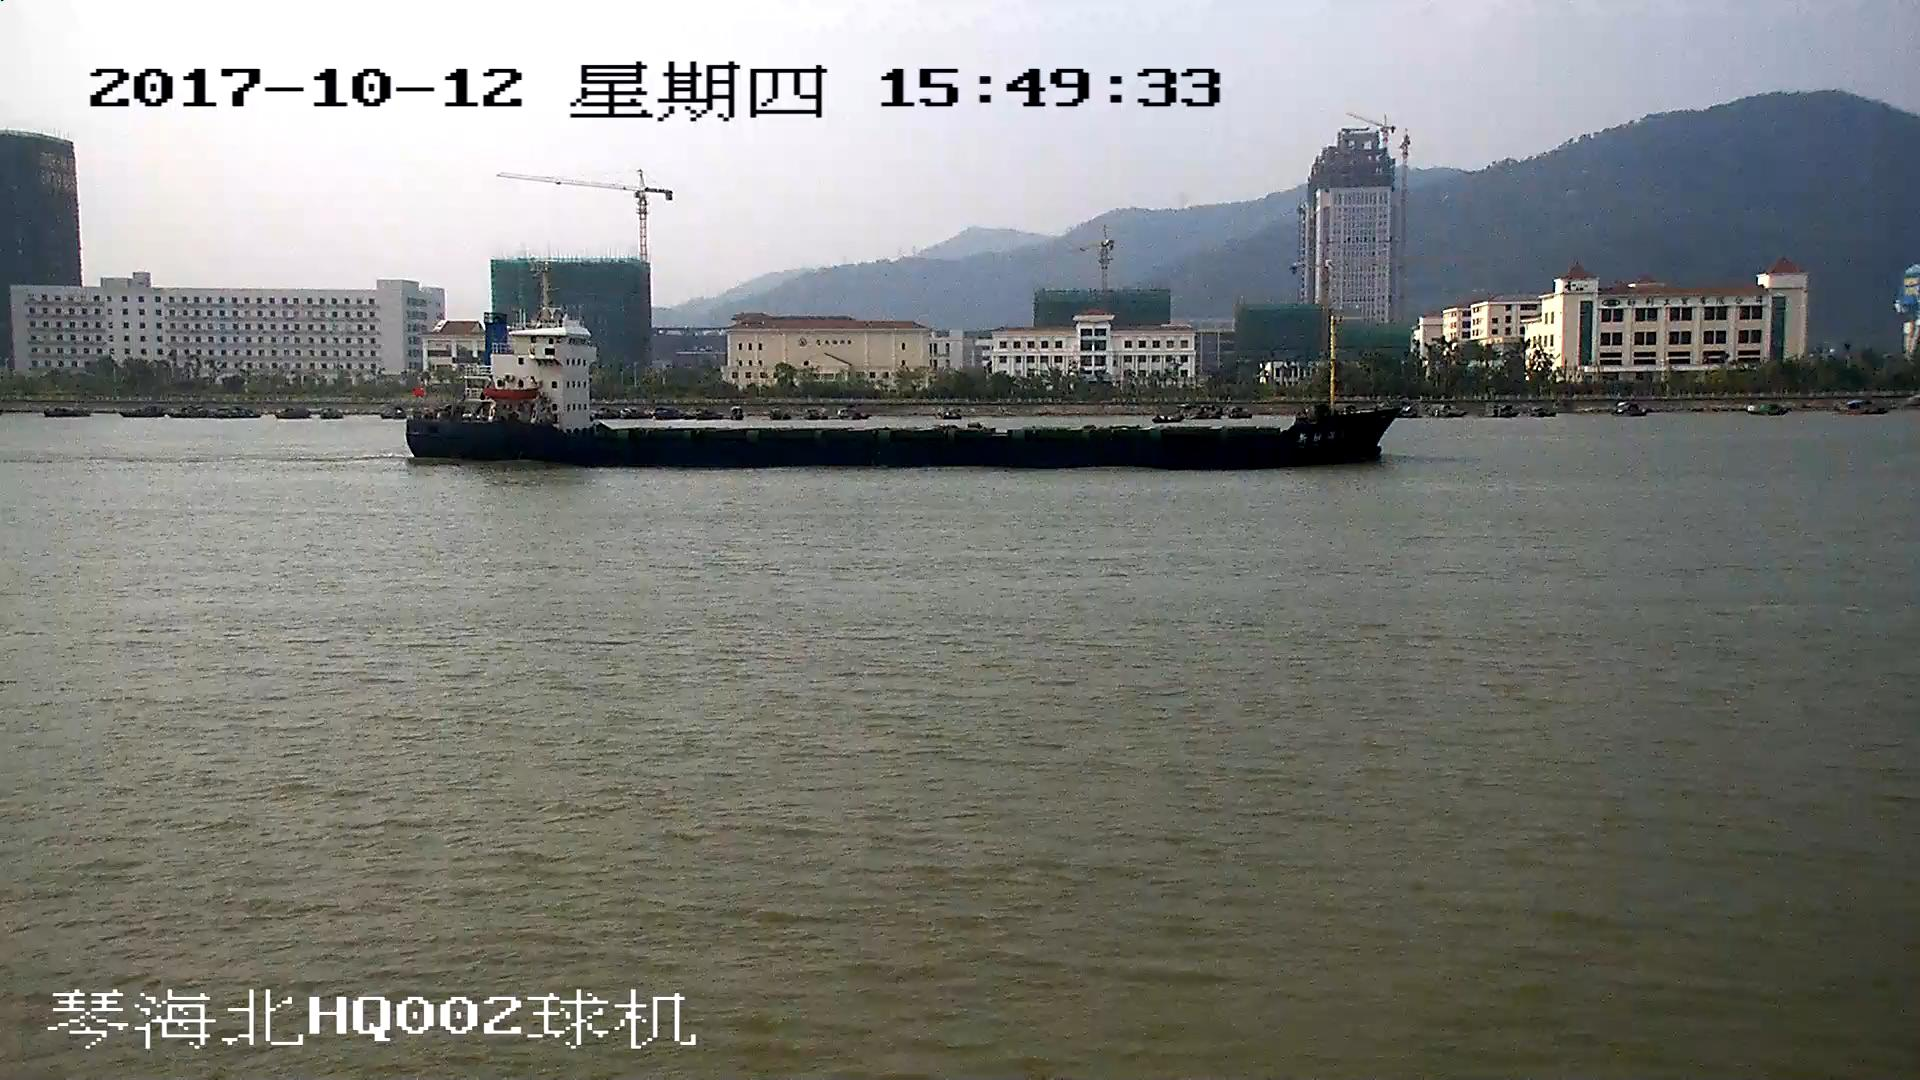general cargo ship: (406, 265, 1398, 471)
